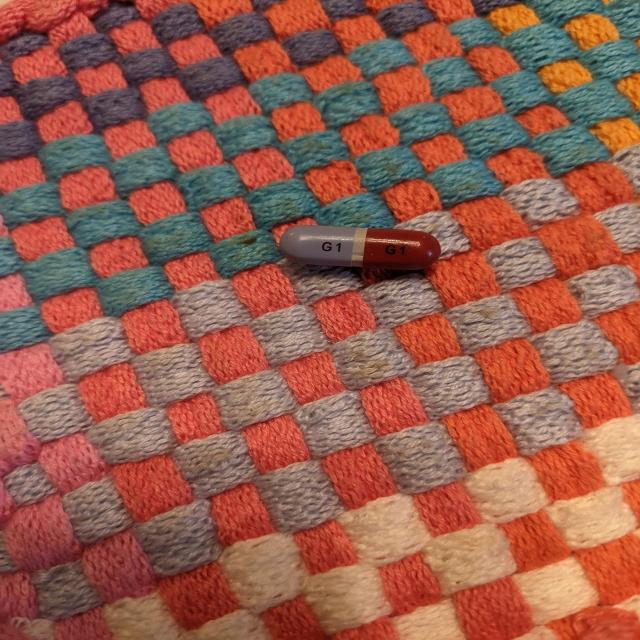non-organic waste: (278, 223, 442, 272)
